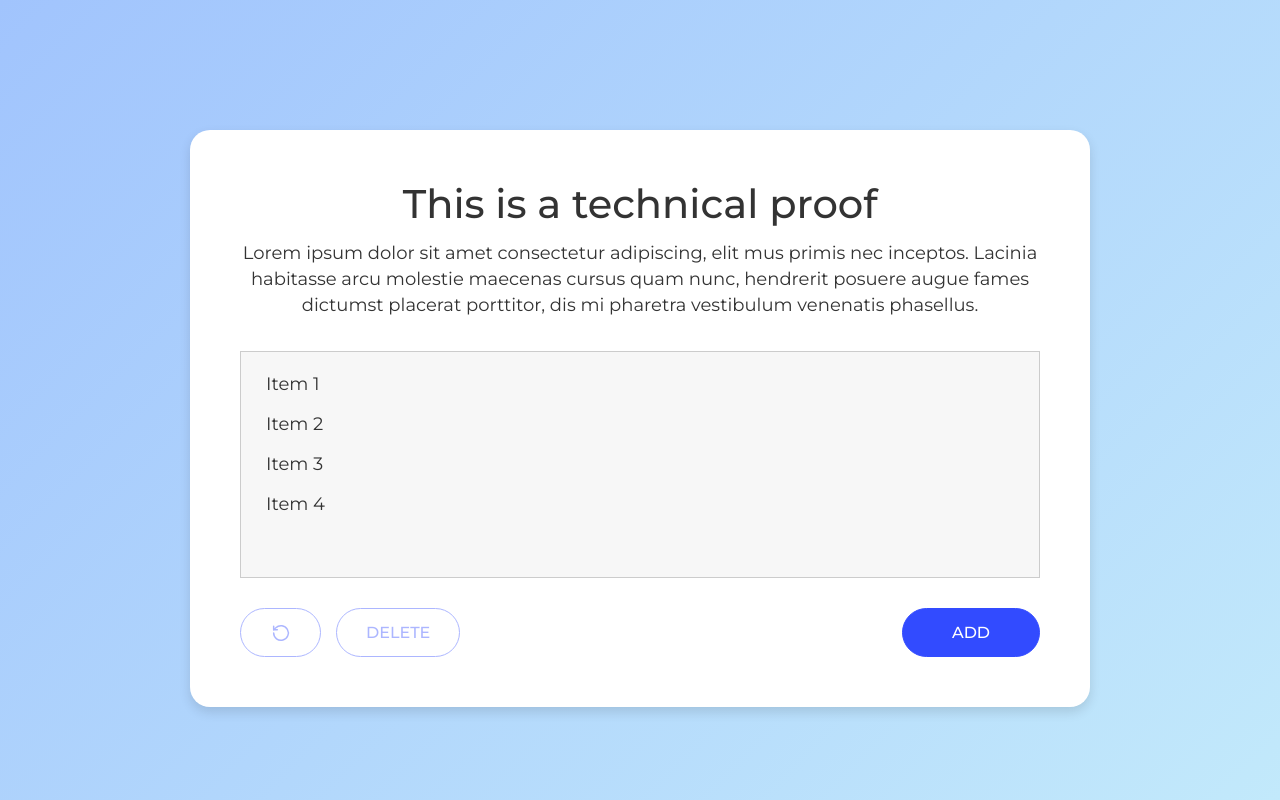
Test case: App › adds a new item from the dialog
The width and height of the screenshot is (1280, 800).
Click the button "Add": (971, 633) [902,608,1040,657]
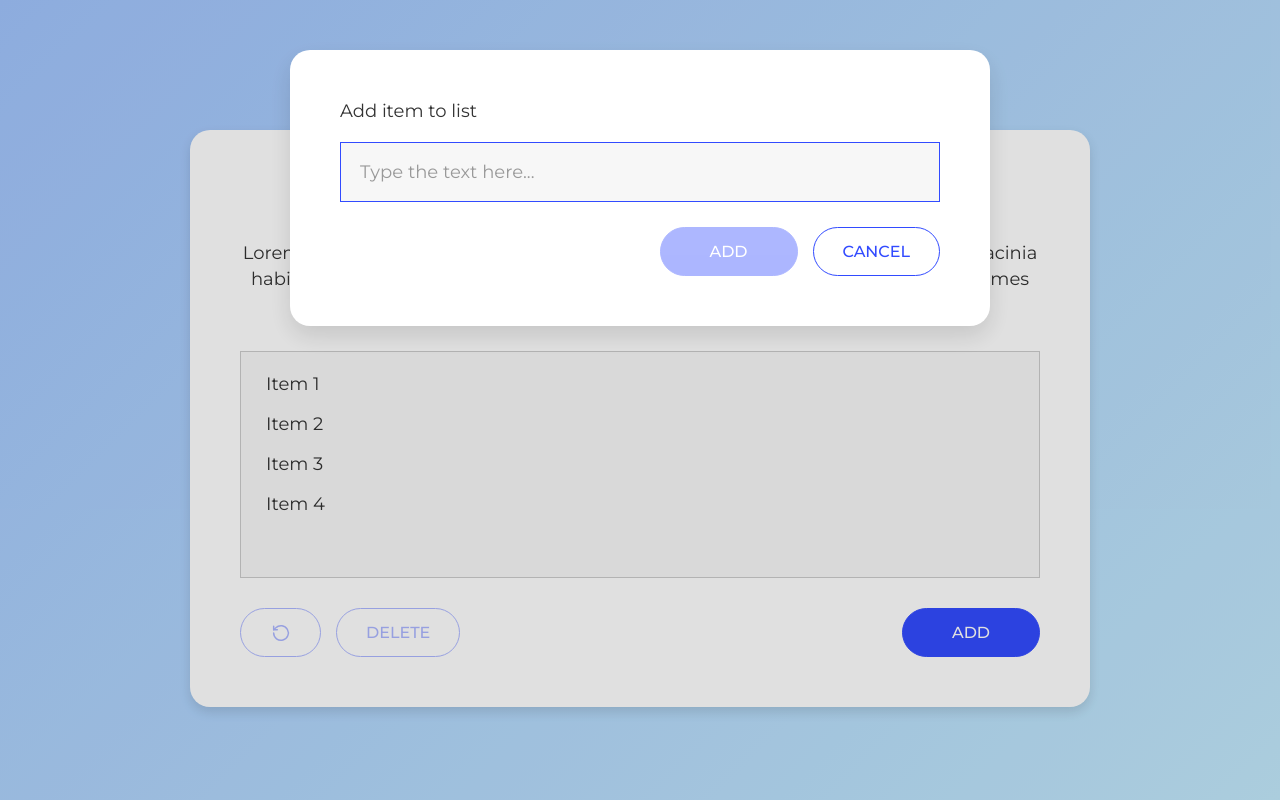
Expected: the button "Add" is disabled, [660,227,798,276]
In the field: (640, 172) [340,142,940,202], type "Item 5"
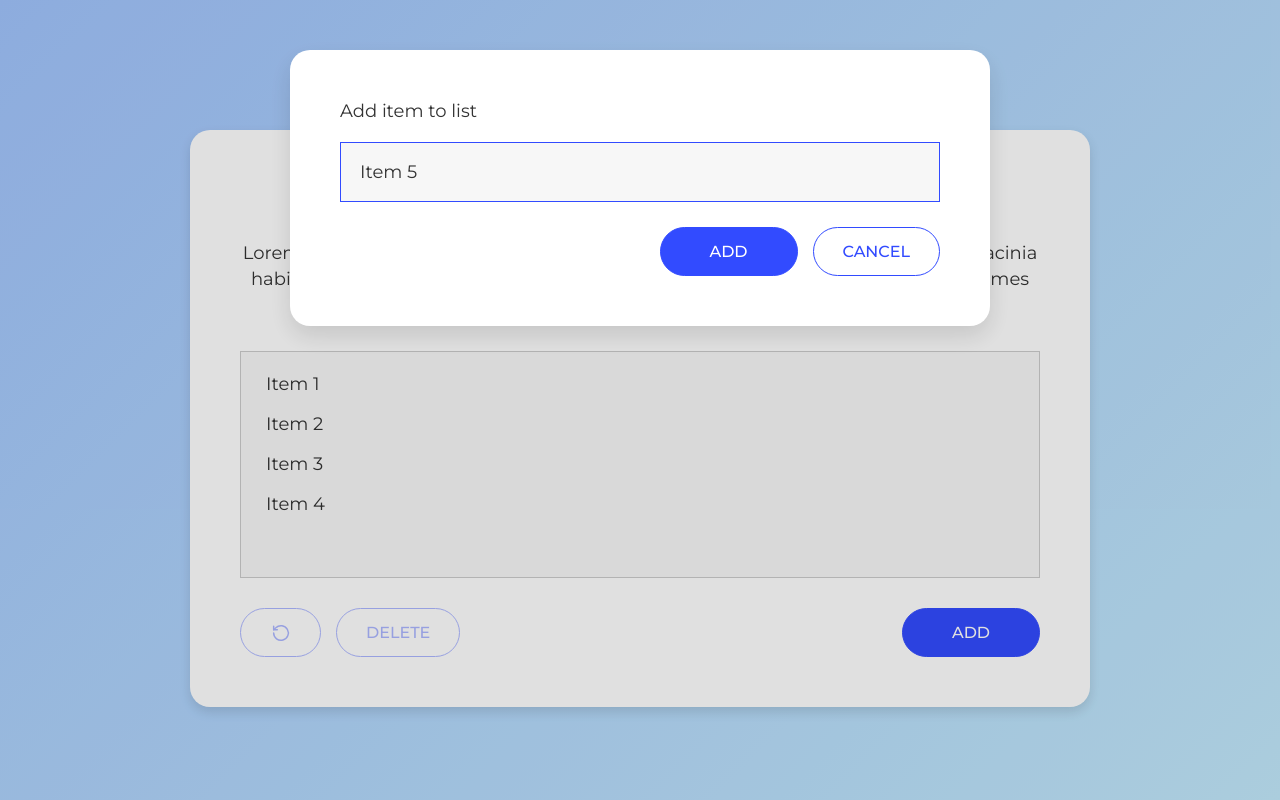
Click the button "Add": (728, 252) [660,227,798,276]
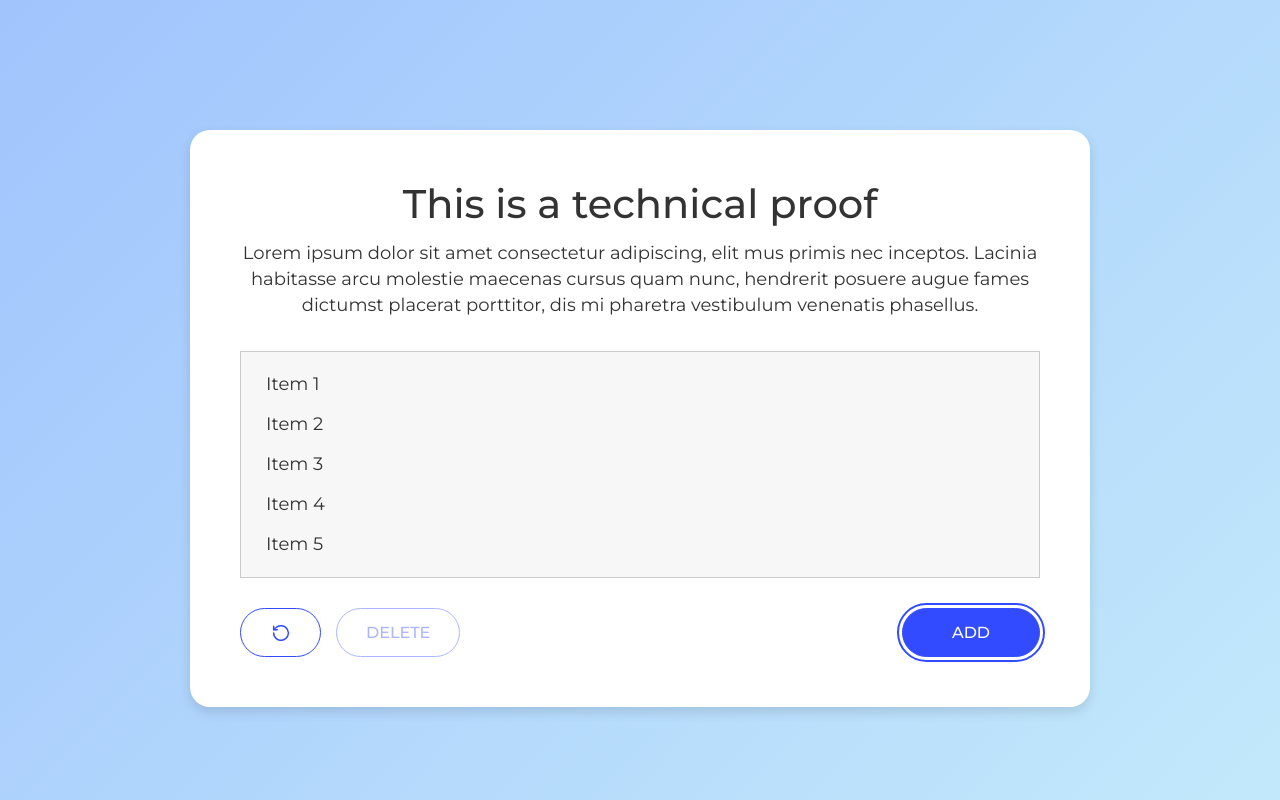
Expected: the dialog is gone
